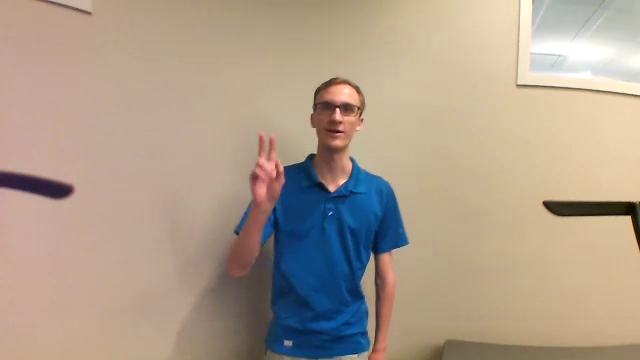peace: (246, 124, 289, 211)
